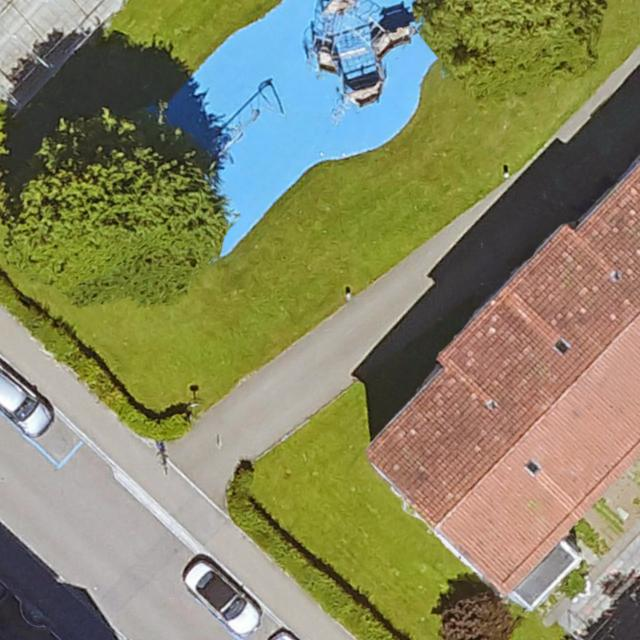tree: (5, 122, 225, 301), (424, 0, 605, 104), (441, 590, 514, 640)
